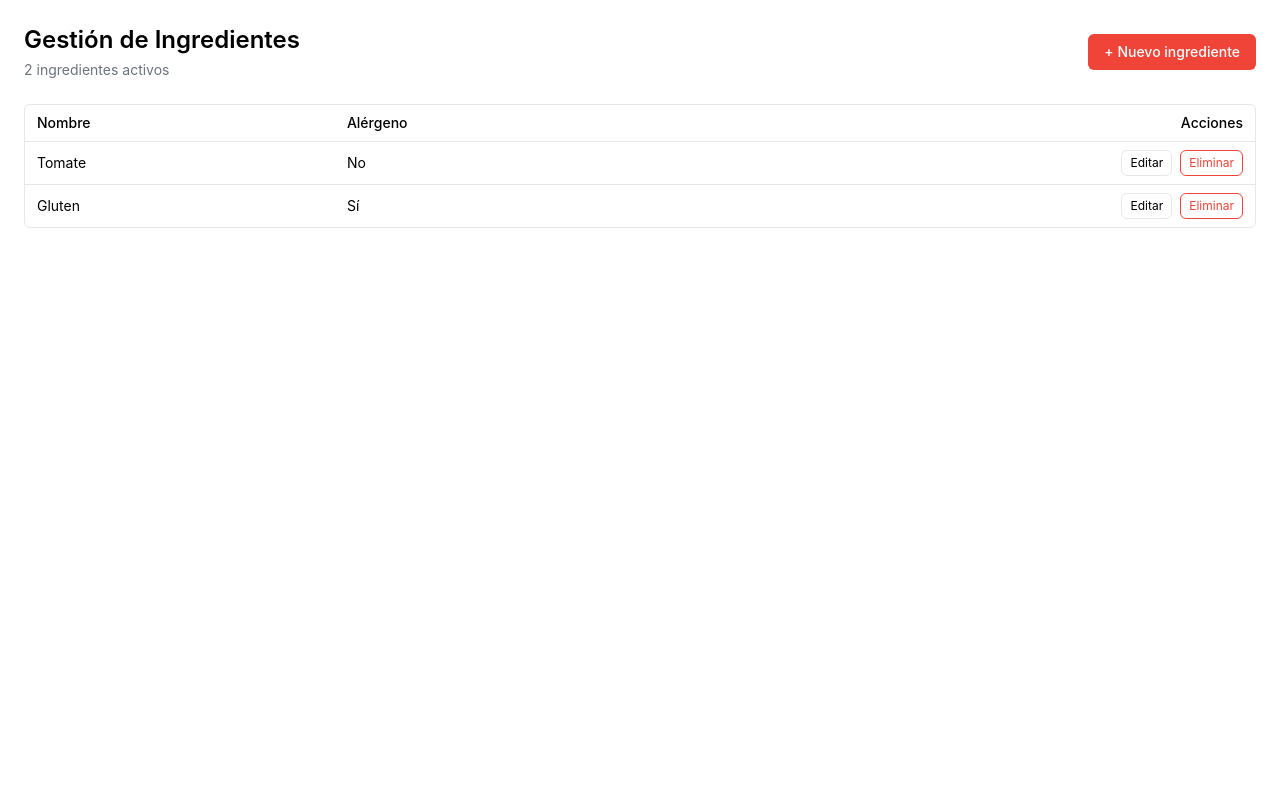
Test case: StockIngredientsPage › opens delete confirmation modal when "Eliminar" is clicked
Click the button "Eliminar" in the row of "Tomate".
click(1212, 163)  # box [1180,150,1243,176]
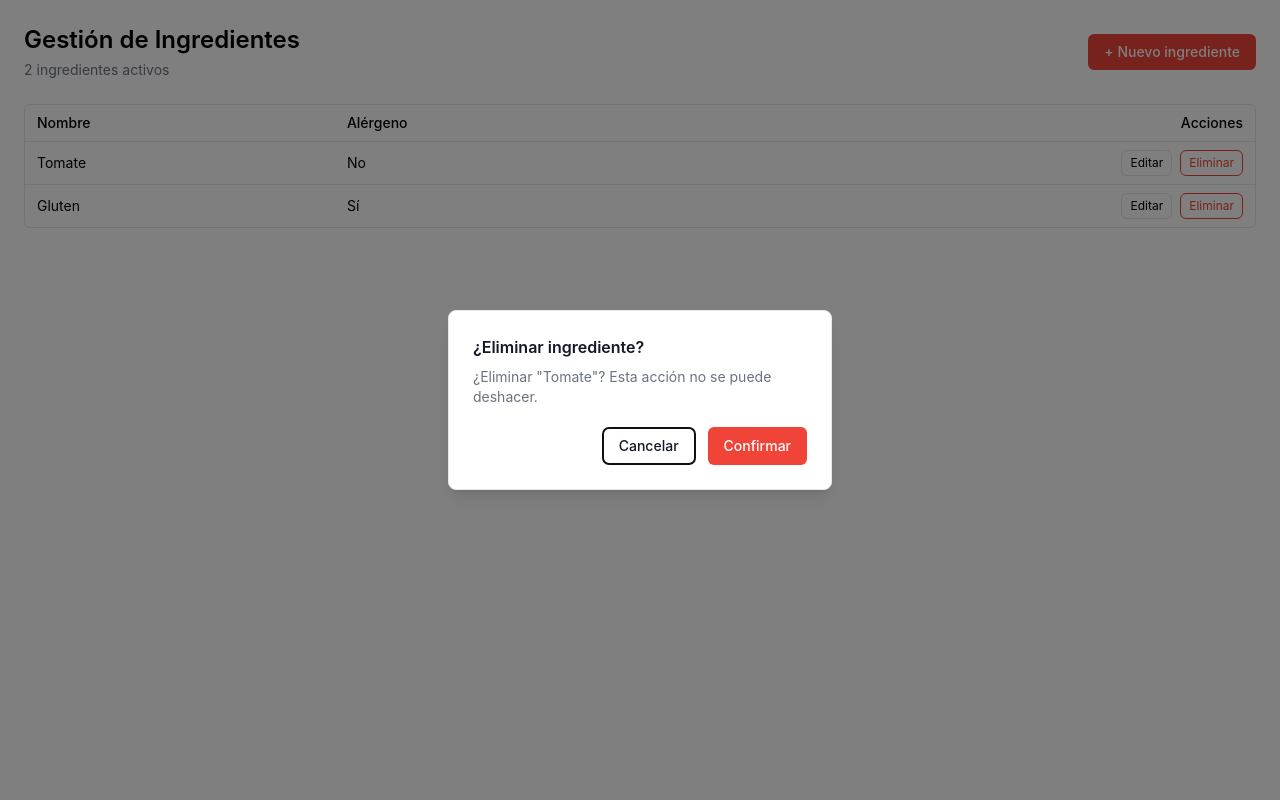
Expected: the dialog is shown
Expected: the heading "¿Eliminar ingrediente?" is shown, [473,337,644,357]
Expected: the text "¿Eliminar \"Tomate\"? Esta acción no se puede deshacer." is shown, [473,367,807,407]
